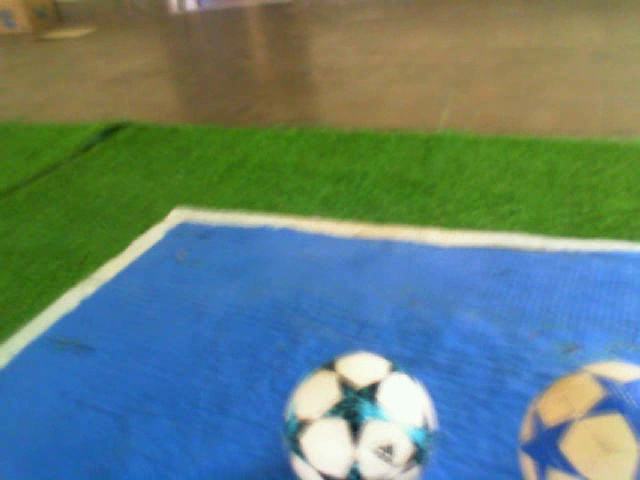ball: (276, 346, 444, 480), (513, 356, 640, 480)
